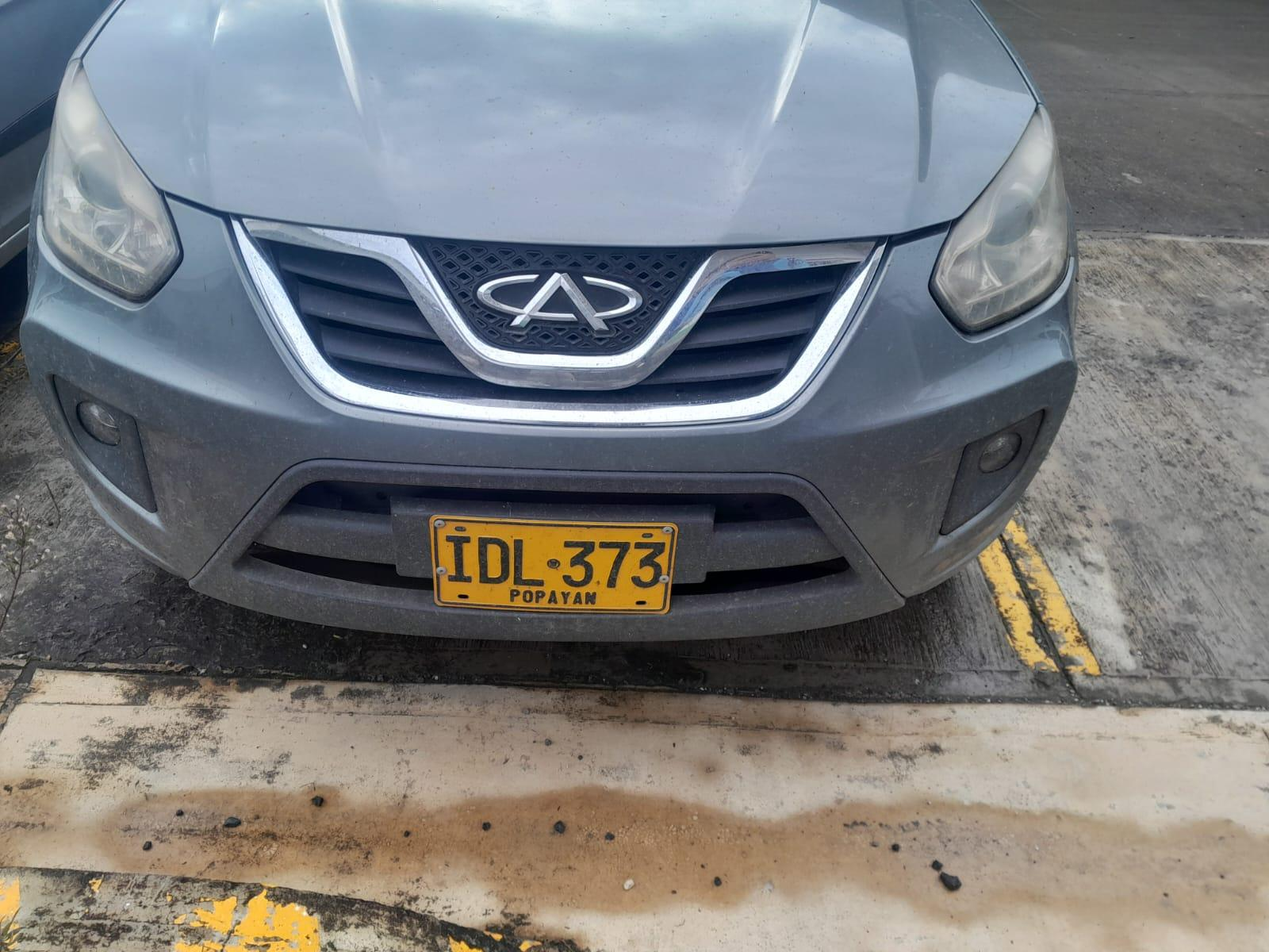placa: (431, 512, 678, 613)
